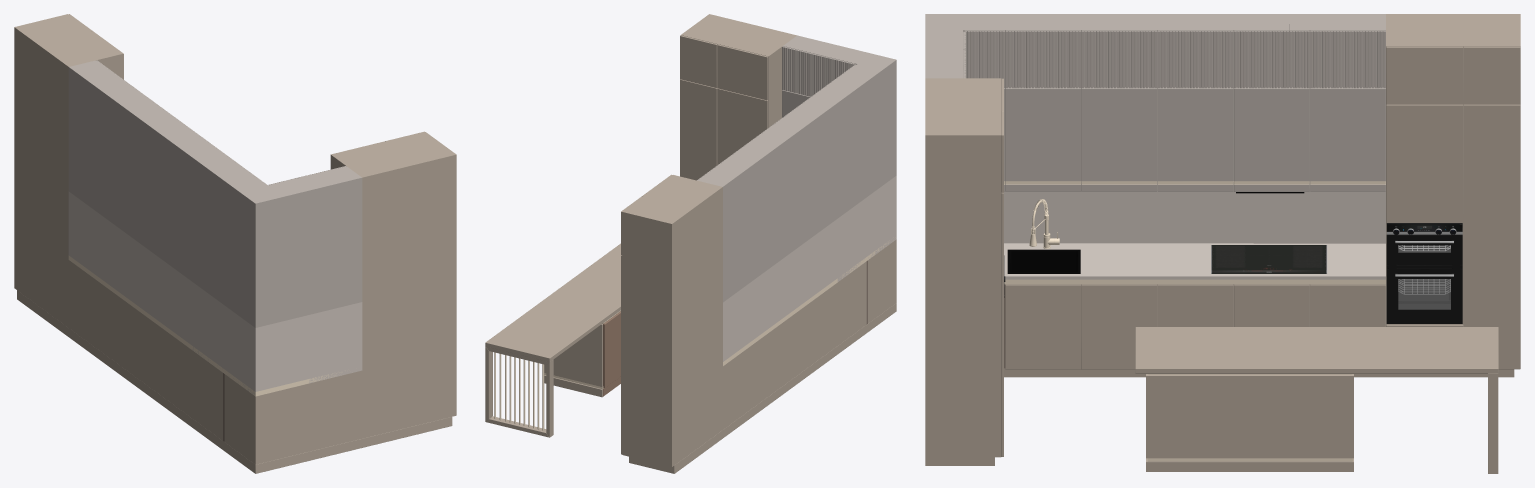
Rendered from kitchen004.glb.
The picture shows the model from 3 angles, left to right: view 1: azimuth 30°, elevation 25°; view 2: azimuth 150°, elevation 25°; view 3: azimuth 270°, elevation 25°; orthographic projection. The views are drawn at different scales.
Parts seen in each view (by area): view 1: kitchen_modern64_024, kitchen_modern64_015, kitchen_modern64_029, kitchen_modern64_011, kitchen_modern64_032, kitchen_modern64_008, kitchen_modern64_020, kitchen_modern64_028, kitchen_modern64_003, kitchen_modern64_004, kitchen_modern64_005, kitchen_modern64_006 (+11 smaller); view 2: kitchen_modern64_032, kitchen_modern64_024, kitchen_modern64_011, kitchen_modern64_015, kitchen_modern64_058, kitchen_modern64_029, kitchen_modern64_004, kitchen_modern64_007, kitchen_modern64_005, kitchen_modern64_006, kitchen_modern64_003, kitchen_modern64_008 (+16 smaller); view 3: kitchen_modern64_029, kitchen_modern64_063, kitchen_modern64_024, kitchen_modern64_058, kitchen_modern64_033, kitchen_modern64_022, kitchen_modern64_006, kitchen_modern64_007, kitchen_modern64_004, kitchen_modern64_005, kitchen_modern64_003, kitchen_modern64_027 (+18 smaller).
Boxes of the visible parts, x1,y1,x2,y2 form: kitchen_modern64_024: (68, 191, 362, 393); kitchen_modern64_015: (330, 141, 416, 438); kitchen_modern64_029: (385, 131, 456, 425); kitchen_modern64_011: (37, 31, 122, 327); kitchen_modern64_032: (14, 14, 90, 304); kitchen_modern64_008: (298, 166, 362, 313); kitchen_modern64_020: (224, 370, 308, 464); kitchen_modern64_028: (239, 185, 284, 327); kitchen_modern64_003: (68, 60, 127, 213); kitchen_modern64_004: (99, 83, 158, 236); kitchen_modern64_005: (130, 105, 189, 258); kitchen_modern64_006: (161, 128, 220, 281); kitchen_modern64_032: (622, 196, 693, 466); kitchen_modern64_024: (723, 176, 896, 361); kitchen_modern64_011: (644, 175, 722, 450); kitchen_modern64_015: (717, 23, 796, 164); kitchen_modern64_058: (485, 243, 620, 361); kitchen_modern64_029: (680, 14, 746, 180); kitchen_modern64_004: (725, 139, 780, 281); kitchen_modern64_007: (811, 75, 866, 218); kitchen_modern64_005: (754, 117, 808, 260); kitchen_modern64_006: (783, 96, 837, 239); kitchen_modern64_003: (697, 160, 751, 302); kitchen_modern64_008: (782, 35, 841, 117); kitchen_modern64_029: (925, 111, 1003, 457); kitchen_modern64_063: (1146, 374, 1353, 471); kitchen_modern64_024: (1004, 191, 1385, 243); kitchen_modern64_058: (1135, 327, 1498, 373); kitchen_modern64_033: (1464, 46, 1520, 369); kitchen_modern64_022: (1386, 46, 1463, 326); kitchen_modern64_006: (1081, 14, 1157, 191); kitchen_modern64_007: (1005, 14, 1081, 191); kitchen_modern64_004: (1233, 14, 1309, 191); kitchen_modern64_005: (1157, 14, 1233, 191); kitchen_modern64_003: (1310, 14, 1385, 191); kitchen_modern64_027: (1004, 243, 1385, 279).
Size of what is drawn, in the model's own units: 2.35 by 2.96 by 4.69.
30 materials, 5 textured.
